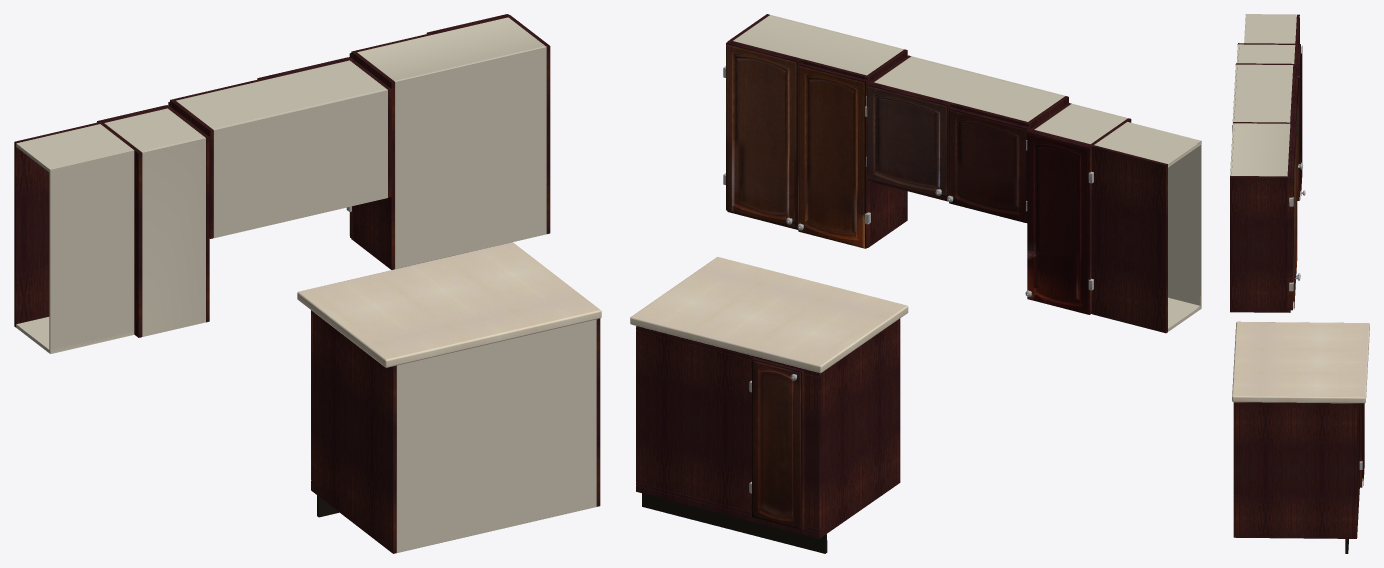
The picture shows the model from 3 angles, left to right: view 1: azimuth 30°, elevation 25°; view 2: azimuth 150°, elevation 25°; view 3: azimuth 270°, elevation 25°; orthographic projection. The views are drawn at different scales.
Parts seen in each view (by area): view 1: microwave_base_carcass, upper_snack_carcass, upper_microwave_carcass, upper_hood_carcass, microwave_landing_countertop; view 2: microwave_base_carcass, upper_snack_carcass, microwave_landing_countertop, upper_microwave_left, upper_microwave_right, upper_snack_door, microwave_base_door, upper_microwave_carcass, upper_hood_left, upper_hood_right, upper_hood_carcass; view 3: microwave_base_carcass, upper_microwave_carcass, microwave_landing_countertop, upper_hood_carcass, upper_snack_carcass, upper_microwave_left, upper_snack_door, microwave_base_door, upper_microwave_right, upper_hood_right, upper_hood_left.
Boxes of the visible parts, x1=… form: microwave_base_carcass: x1=311, y1=310, x2=600, y2=553; upper_snack_carcass: x1=14, y1=106, x2=209, y2=353; upper_microwave_carcass: x1=351, y1=15, x2=550, y2=269; upper_hood_carcass: x1=170, y1=58, x2=391, y2=238; microwave_landing_countertop: x1=297, y1=242, x2=601, y2=367; microwave_base_carcass: x1=636, y1=318, x2=900, y2=553; upper_snack_carcass: x1=1029, y1=103, x2=1201, y2=333; microwave_landing_countertop: x1=630, y1=257, x2=908, y2=373; upper_microwave_left: x1=723, y1=42, x2=799, y2=228; upper_microwave_right: x1=797, y1=63, x2=870, y2=248; upper_snack_door: x1=1025, y1=131, x2=1093, y2=314; microwave_base_door: x1=749, y1=358, x2=803, y2=529; upper_microwave_carcass: x1=727, y1=14, x2=907, y2=247; upper_hood_left: x1=866, y1=83, x2=949, y2=199; upper_hood_right: x1=947, y1=107, x2=1028, y2=222; upper_hood_carcass: x1=868, y1=55, x2=1068, y2=201; microwave_base_carcass: x1=1233, y1=402, x2=1359, y2=553; upper_microwave_carcass: x1=1230, y1=122, x2=1293, y2=312; microwave_landing_countertop: x1=1232, y1=321, x2=1369, y2=403; upper_hood_carcass: x1=1232, y1=63, x2=1296, y2=131; upper_snack_carcass: x1=1237, y1=14, x2=1299, y2=67; upper_microwave_left: x1=1289, y1=149, x2=1300, y2=310; upper_snack_door: x1=1297, y1=44, x2=1305, y2=200; microwave_base_door: x1=1359, y1=349, x2=1368, y2=487; upper_microwave_right: x1=1292, y1=125, x2=1300, y2=276; upper_hood_right: x1=1295, y1=66, x2=1303, y2=170; upper_hood_left: x1=1293, y1=95, x2=1302, y2=188.
Size of the model in its own units: 2.68 by 2.33 by 0.8258.
Materials: 11 (8 with a texture image).
